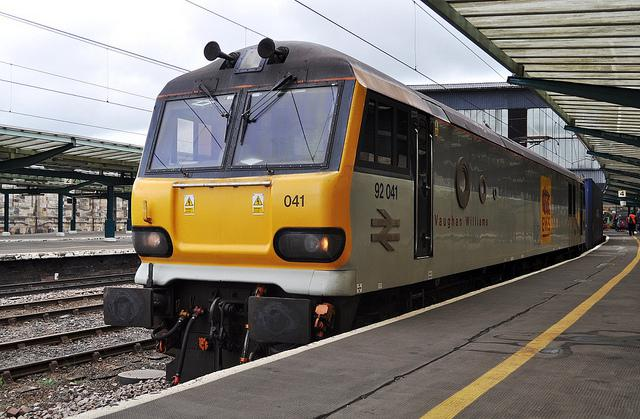Train: (105, 37, 606, 388)
